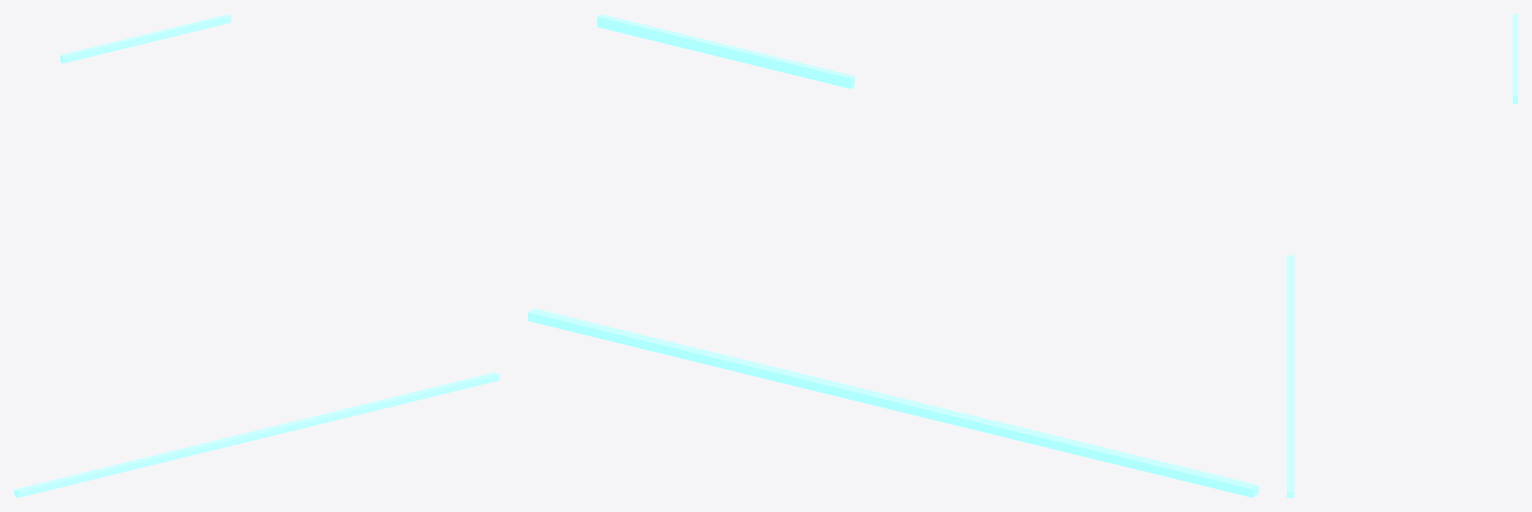
The model's file is ThroneGlow.fbx.
The picture shows the model from 3 angles, left to right: view 1: azimuth 30°, elevation 25°; view 2: azimuth 150°, elevation 25°; view 3: azimuth 270°, elevation 25°; orthographic projection. The views are drawn at different scales.
Parts seen in each view (by area): view 1: ThroneTrim.001; view 2: ThroneTrim.001; view 3: ThroneTrim.001.
Part boxes in pixels (x1,y1,x2,y2): ThroneTrim.001: [14, 14, 499, 497]; ThroneTrim.001: [528, 14, 1258, 497]; ThroneTrim.001: [1287, 14, 1517, 497].
Bounding box in the file's own units: 2200 × 1402 × 905.
